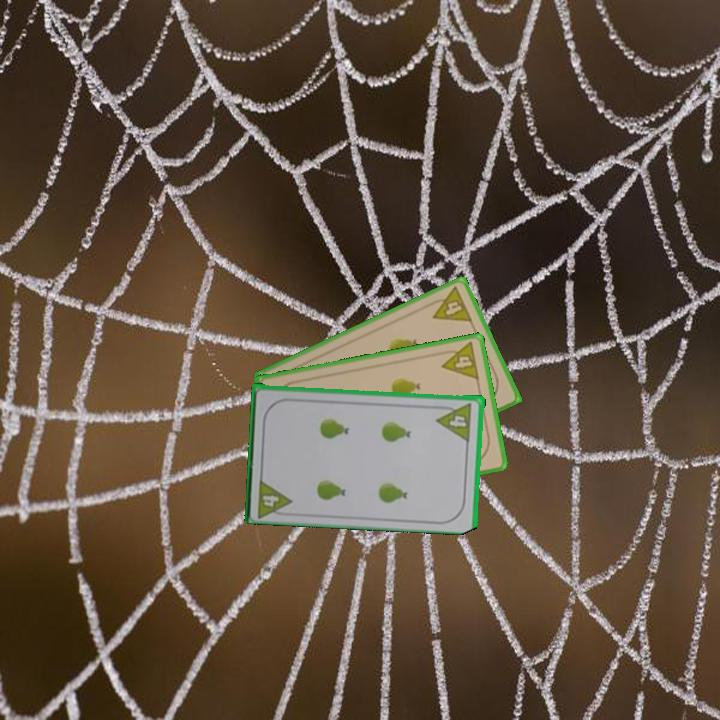4p: (424, 283, 475, 325), (436, 339, 482, 383), (254, 474, 295, 519), (434, 399, 475, 443)
